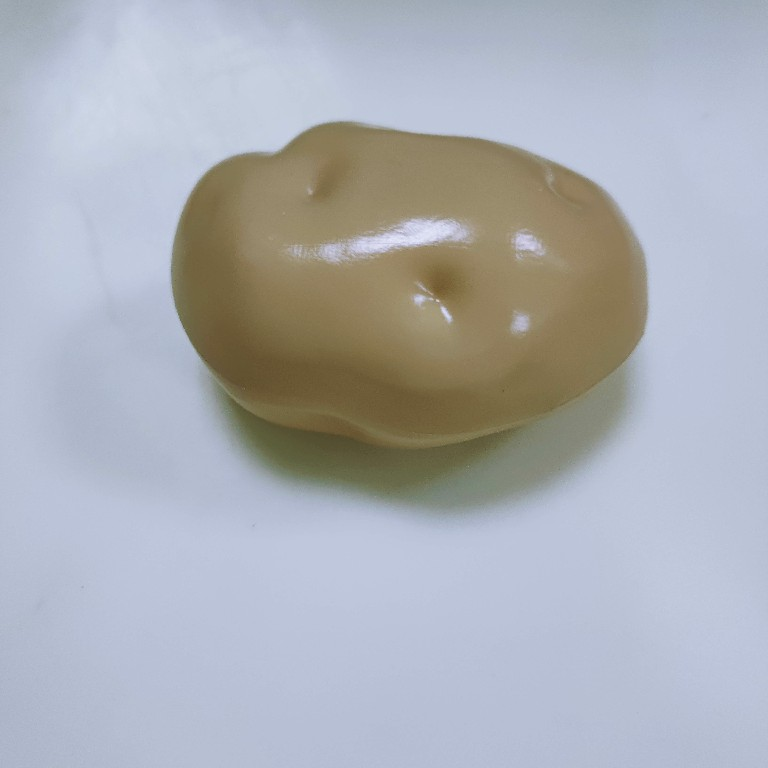fruit_potato: (166, 114, 652, 457)
